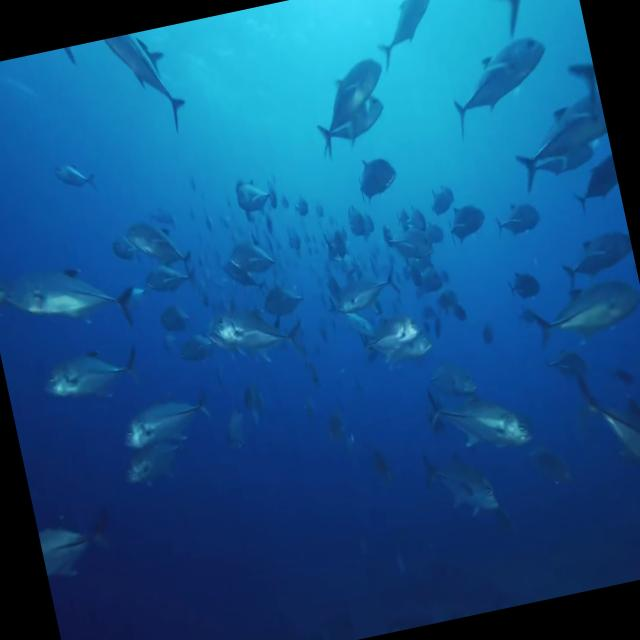fish: (431, 30, 568, 146), (0, 241, 144, 349), (528, 268, 640, 358), (30, 338, 158, 416), (307, 56, 393, 150), (117, 386, 220, 454)
